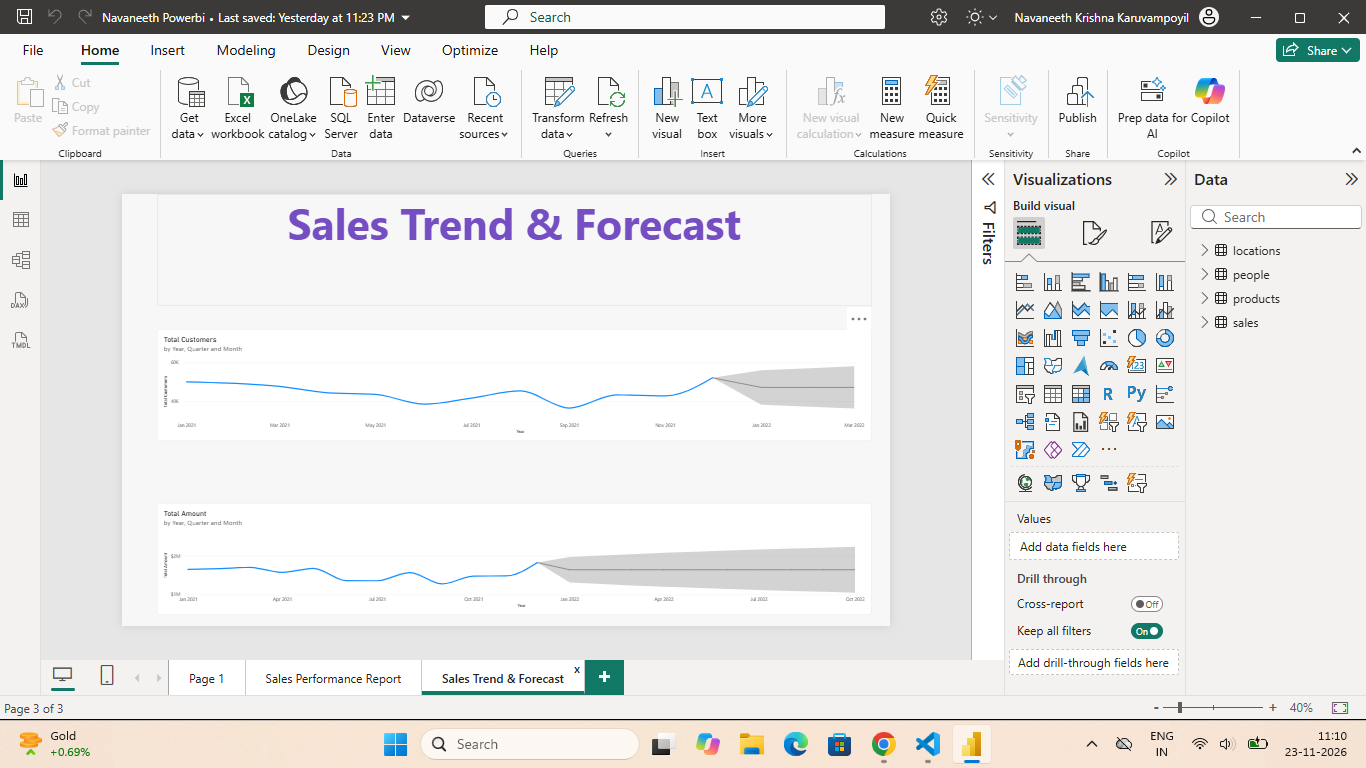

This screenshot's page, from the dashboard's own definition file:
{"tool":"powerbi","page":{"name":"Sales Trend & Forecast","canvas":[1920,1080],"ordinal":2},"visuals":[{"type":"lineChart","fields":{"Category":["sales.Date.Variation.Date Hierarchy.Year","sales.Date.Variation.Date Hierarchy.Quarter","sales.Date.Variation.Date Hierarchy.Month","sales.Date.Variation.Date Hierarchy.Day"],"Y":["sales.Total Customers"]},"box":[87.5,337.5,1786,280],"z":0},{"type":"lineChart","fields":{"Category":["sales.Date.Variation.Date Hierarchy.Year","sales.Date.Variation.Date Hierarchy.Quarter","sales.Date.Variation.Date Hierarchy.Month","sales.Date.Variation.Date Hierarchy.Day"],"Y":["sales.Total Amount"]},"box":[87.5,772.5,1786,280],"z":1},{"type":"textbox","box":[88,0,1786,280],"z":2}]}

Visuals, with their boxes on the page's 1920x1080 design canvas (x1, y1, x2, y2). These are canvas units, not pixel positions in the 1366x768 screenshot, which may show the page scaled, cropped or inside an application window:
lineChart - sales.Date.Variation.Date Hierarchy.Year x sales.Date.Variation.Date Hierarchy.Quarter: (88,338,1874,618)
lineChart - sales.Date.Variation.Date Hierarchy.Year x sales.Date.Variation.Date Hierarchy.Quarter: (88,772,1874,1052)
textbox: (88,0,1874,280)
